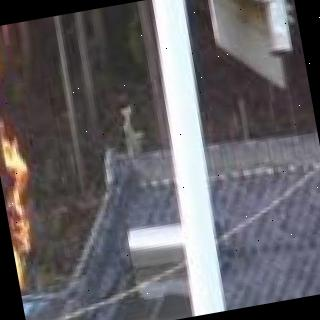fire: (0, 25, 48, 287)
